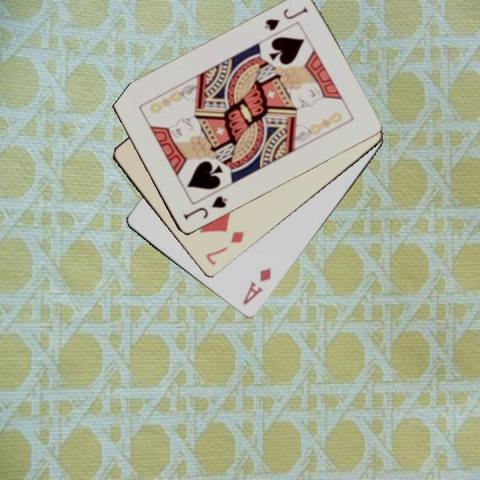7d: (203, 228, 246, 266)
Ad: (240, 265, 273, 307)
Js: (262, 3, 310, 33), (180, 193, 229, 222)
